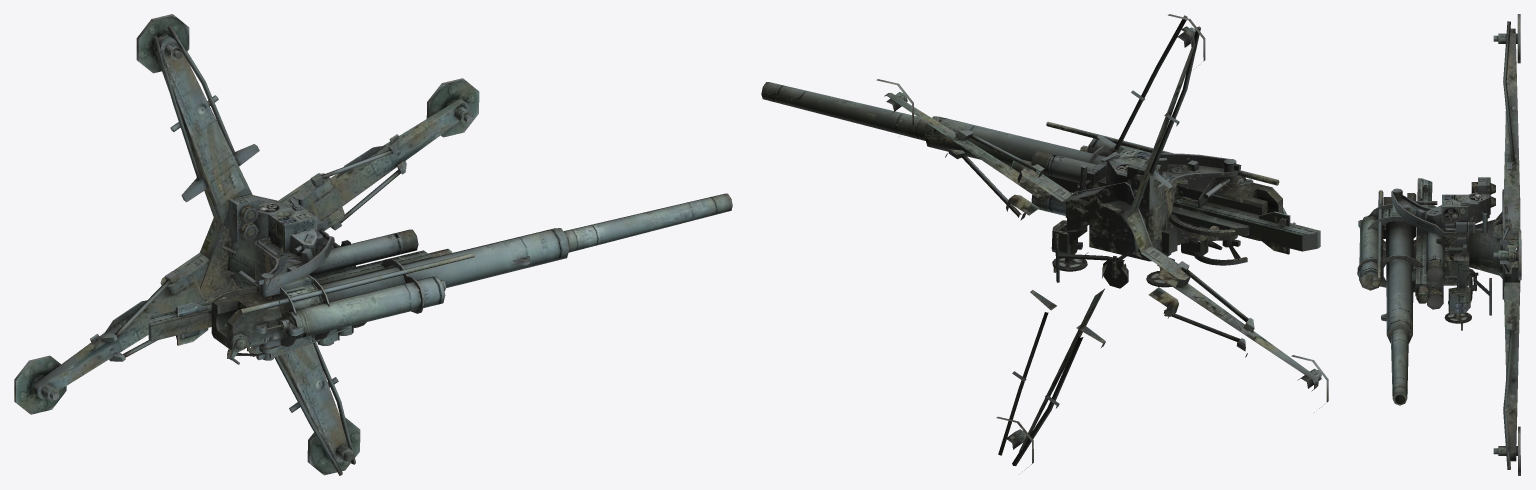
Rendered from german_artillery_flak88_nm.glb.
3 renders of one model, left to right at view 1: azimuth 30°, elevation 25°; view 2: azimuth 150°, elevation 25°; view 3: azimuth 270°, elevation 25°, orthographic. The views are drawn at different scales.
Bounding box in the file's own units: 330 × 246 × 94.32.
1 material, 1 textured.
